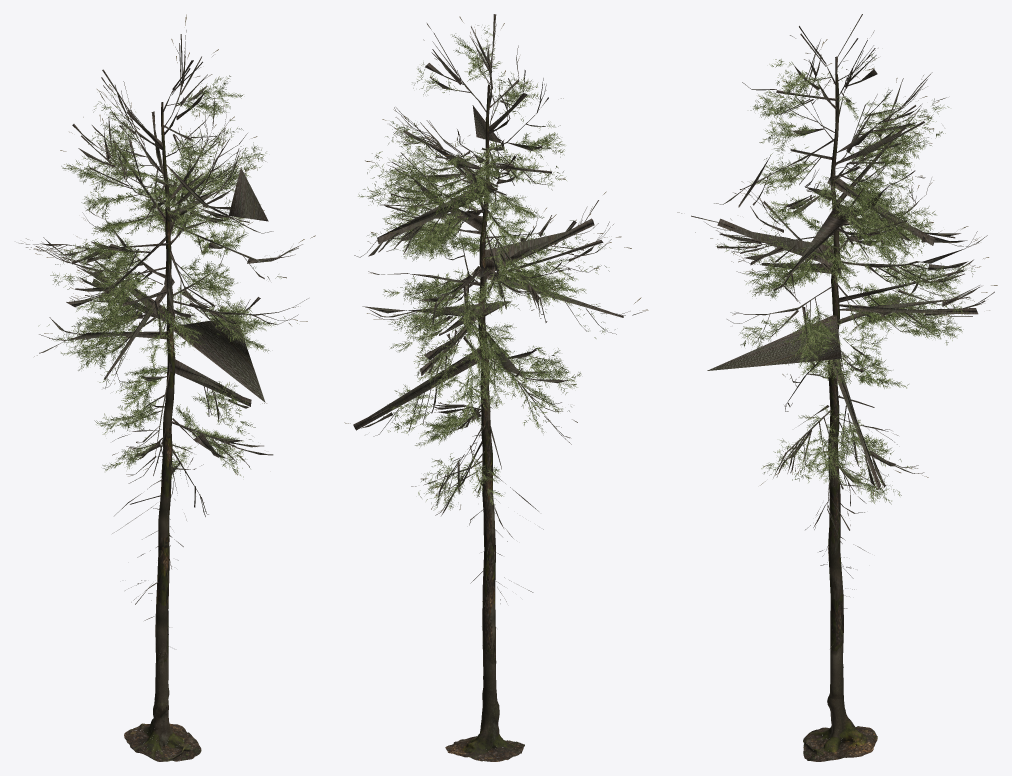
The model's file is fir_mature_b_lod0.gltf.
3 views of the same model, side by side, from view 1: azimuth 30°, elevation 25°; view 2: azimuth 150°, elevation 25°; view 3: azimuth 270°, elevation 25° (orthographic). The views are drawn at different scales.
Visible parts, largest first — view 1: fir_tree_01_b_LOD0.003, fir_tree_01_b_LOD0.001, fir_tree_01_b_LOD0.002, fir_tree_01_b_LOD0; view 2: fir_tree_01_b_LOD0.003, fir_tree_01_b_LOD0.001, fir_tree_01_b_LOD0.002, fir_tree_01_b_LOD0; view 3: fir_tree_01_b_LOD0.003, fir_tree_01_b_LOD0.001, fir_tree_01_b_LOD0.002, fir_tree_01_b_LOD0.
Boxes of the visible parts, <box> form: fir_tree_01_b_LOD0.003: <box>24,14,315,511</box>; fir_tree_01_b_LOD0.001: <box>19,30,308,516</box>; fir_tree_01_b_LOD0.002: <box>124,102,201,761</box>; fir_tree_01_b_LOD0: <box>112,404,203,634</box>; fir_tree_01_b_LOD0.003: <box>344,16,648,511</box>; fir_tree_01_b_LOD0.001: <box>353,14,641,515</box>; fir_tree_01_b_LOD0.002: <box>445,84,524,761</box>; fir_tree_01_b_LOD0: <box>411,401,543,627</box>; fir_tree_01_b_LOD0.003: <box>677,30,997,523</box>; fir_tree_01_b_LOD0.001: <box>691,14,994,543</box>; fir_tree_01_b_LOD0.002: <box>803,74,877,761</box>; fir_tree_01_b_LOD0: <box>799,395,898,648</box>.
Bounding box in the file's own units: 4.91 × 13.77 × 5.39.
Materials: 4 (4 with a texture image).
